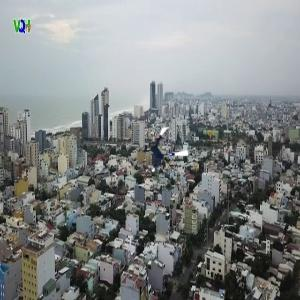drone: (140, 125, 191, 176)
